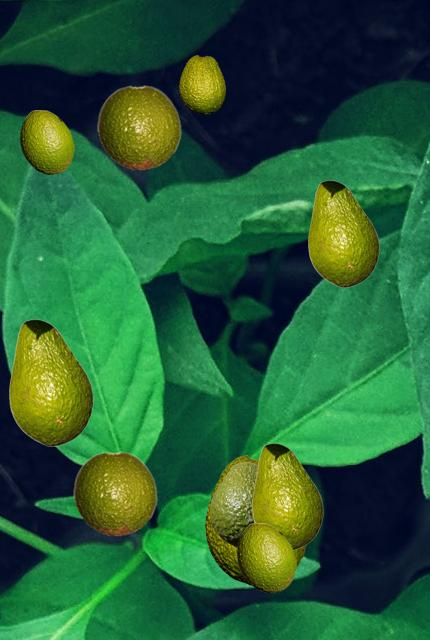avocado: (205, 455, 306, 585), (9, 319, 92, 445), (308, 180, 378, 286), (252, 443, 322, 549), (73, 451, 157, 535), (97, 85, 181, 169), (237, 523, 295, 591), (210, 462, 256, 546), (20, 110, 73, 173), (179, 55, 224, 113)
